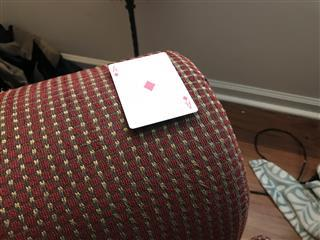AceOfDiamonds: (107, 51, 198, 128)
